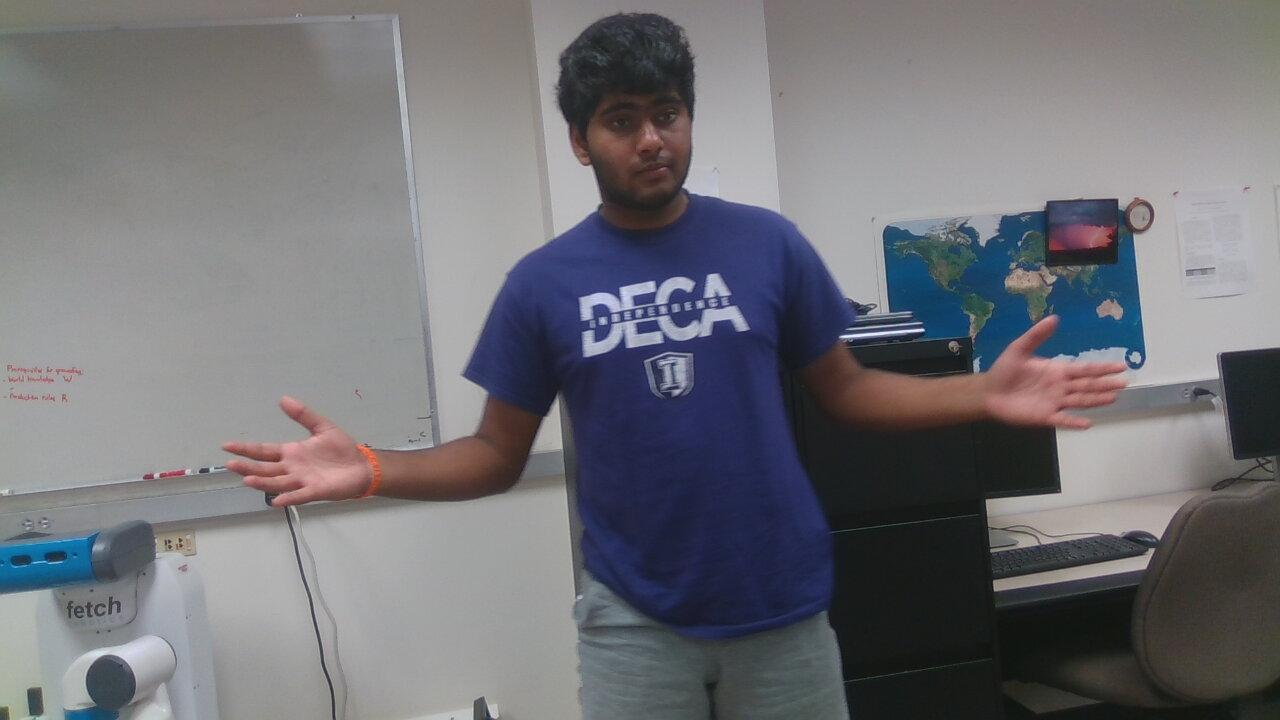hands: (966, 309, 1140, 450), (223, 382, 381, 526)
